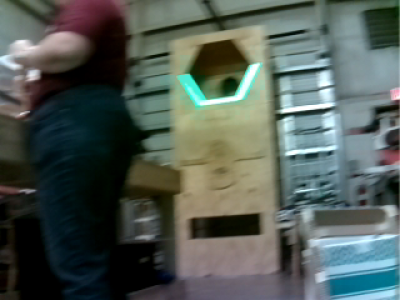target: (177, 61, 262, 106)
